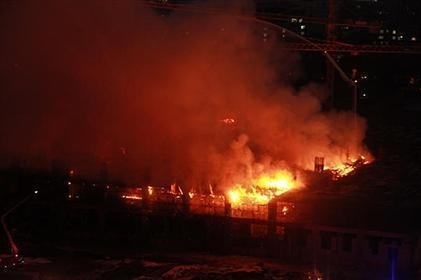fire: (226, 166, 298, 204), (321, 152, 365, 178)
